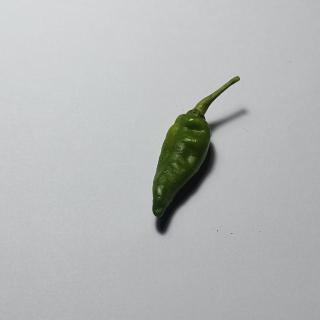Cabai Hijau: (146, 74, 251, 230)
